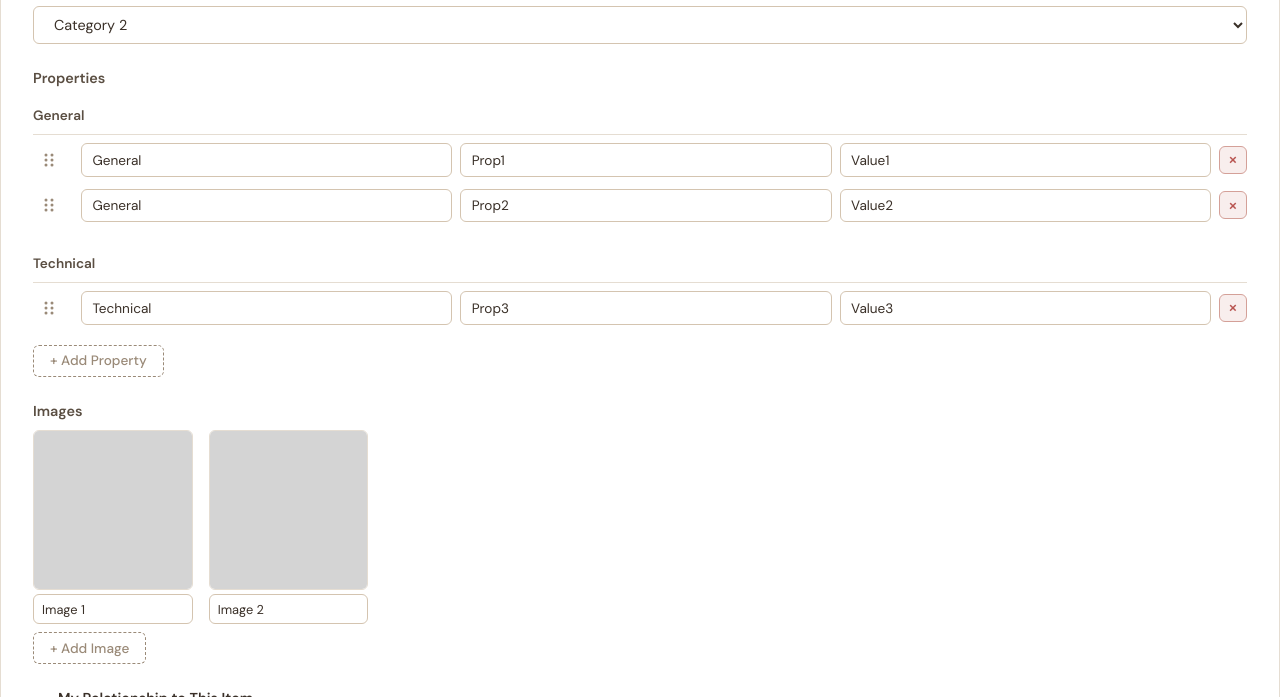
Test: ItemEditor › property editor › should add new property
This screenshot has width=1280, height=697.
(page scrolled)
Click the button "+ Add Property".
click(98, 361)  # box [33,345,164,377]
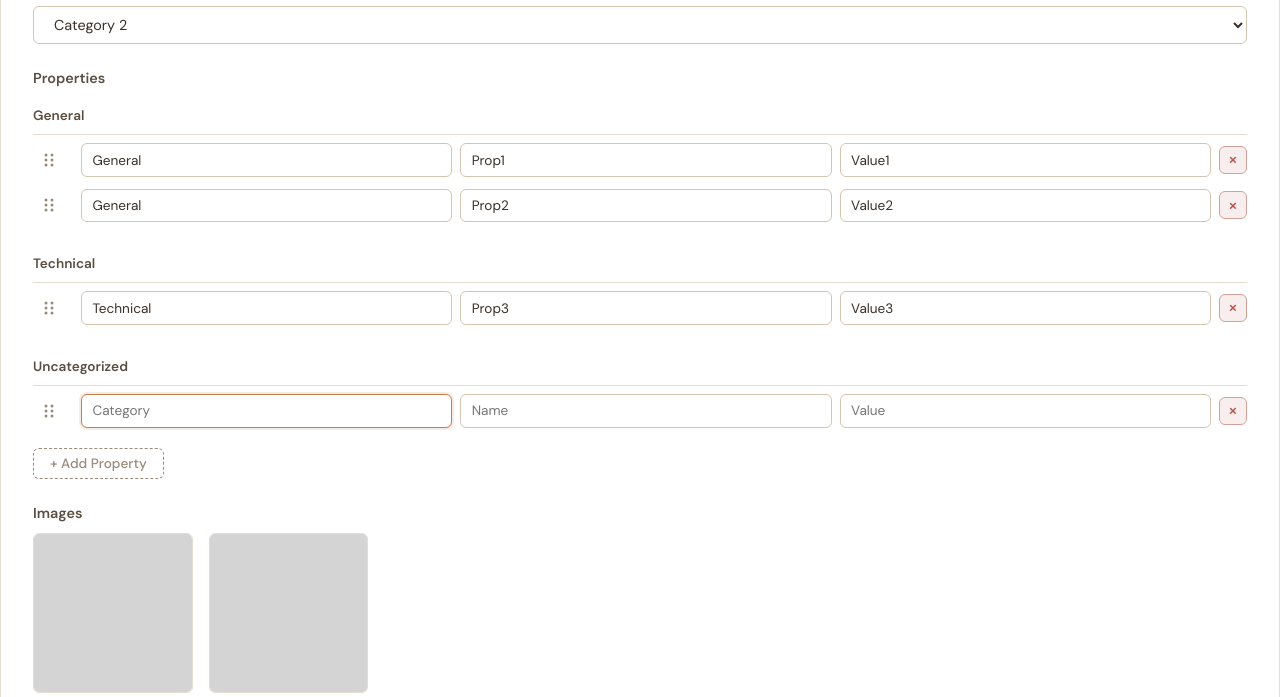
Expected: the number of fields with placeholder "Category" is 4, [81,143,452,177]; [81,189,452,222]; [81,292,452,325]; [81,394,452,428]
